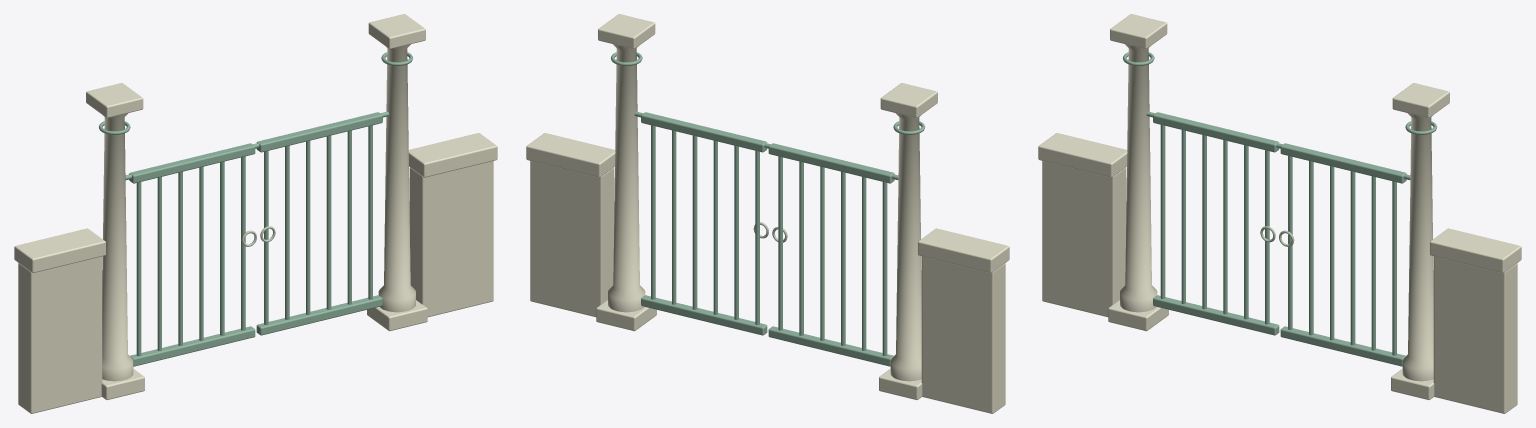
Rendered from enchanted-harp-garden-and-music-sanctuary-garden-gate-b9dfdc25__30399.glb.
3 renders of one model, left to right at view 1: azimuth 30°, elevation 25°; view 2: azimuth 150°, elevation 25°; view 3: azimuth 330°, elevation 25°, orthographic.
Visible parts, largest first — view 1: garden-gate; view 2: garden-gate; view 3: garden-gate.
Part boxes in pixels (bbox=[...]): garden-gate: bbox=[14, 14, 497, 413]; garden-gate: bbox=[526, 14, 1009, 413]; garden-gate: bbox=[1038, 14, 1521, 413].
Size of the model in its own units: 4.02 by 2.42 by 0.3401.
